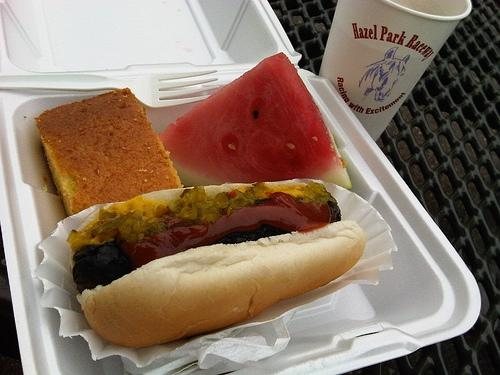watermelon: (158, 52, 352, 190)
